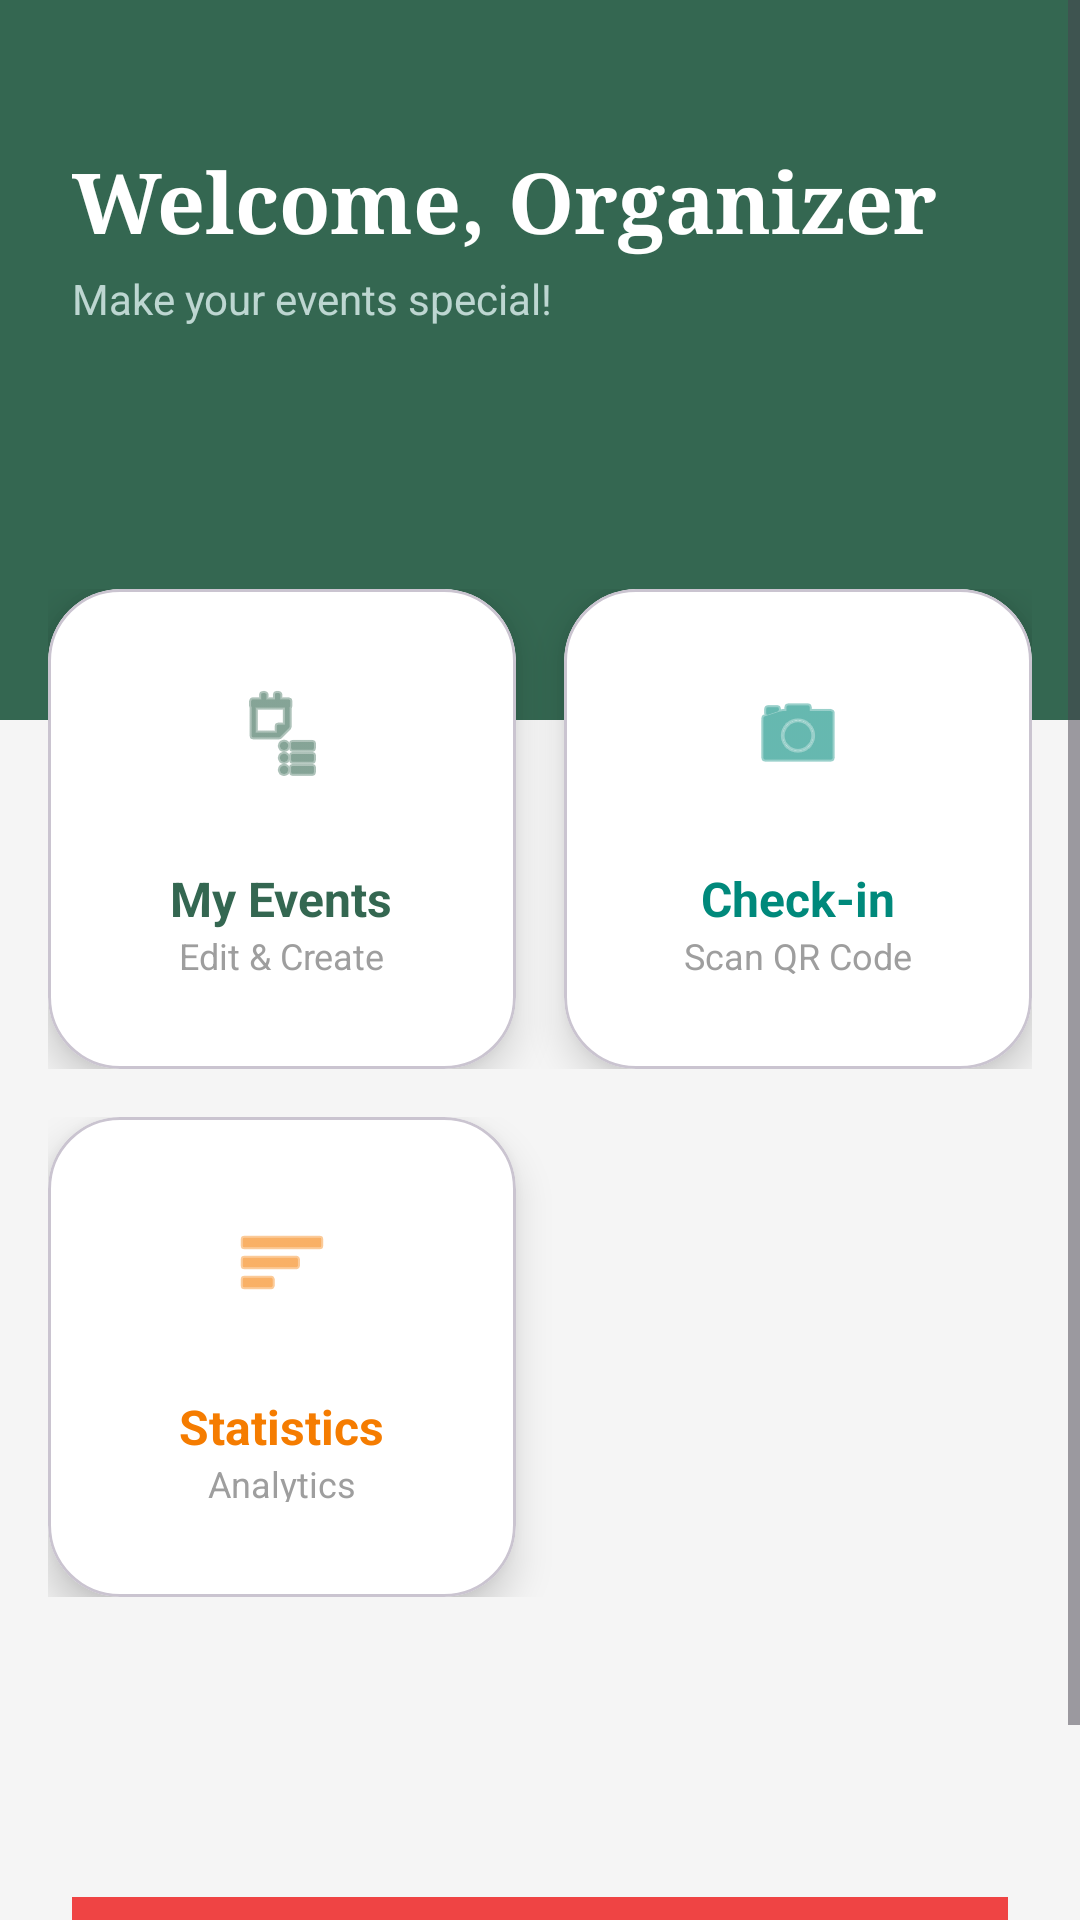

Point at icon controls on the screen. Image size 1080*1920, points as [x,y].
agenda: [282,733]
camera: [798,732]
sort by size: [282,1262]
